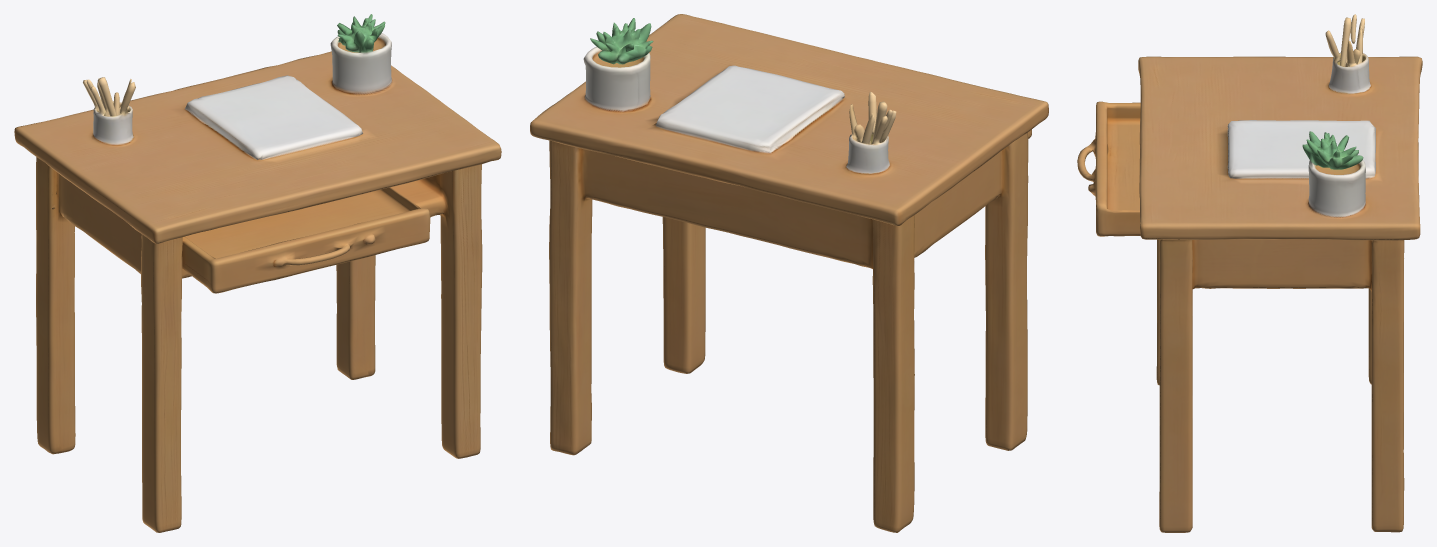
File: desk.glb
The picture shows the model from 3 angles, left to right: view 1: azimuth 30°, elevation 25°; view 2: azimuth 150°, elevation 25°; view 3: azimuth 270°, elevation 25°; orthographic projection. The views are drawn at different scales.
Visible parts, largest first — view 1: model; view 2: model; view 3: model.
Part boxes in pixels (x1,y1,x2,y2): model: [14, 14, 501, 532]; model: [530, 14, 1048, 532]; model: [1077, 14, 1422, 532].
Size of the model in its own units: 1.8 by 1.88 by 1.55.
1 material, 1 textured.
